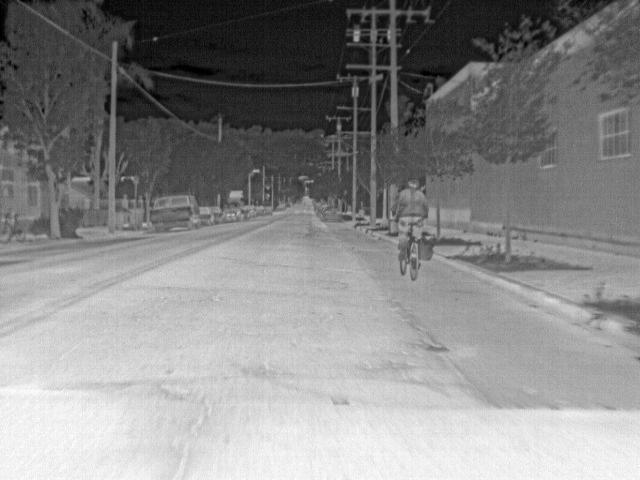car: (149, 194, 201, 235), (198, 202, 224, 227), (319, 204, 343, 222), (225, 206, 244, 222), (244, 204, 257, 218), (316, 205, 326, 215), (256, 206, 265, 216), (276, 202, 284, 212), (264, 206, 272, 216), (314, 200, 321, 209), (286, 200, 293, 207)
person: (398, 177, 426, 261)
